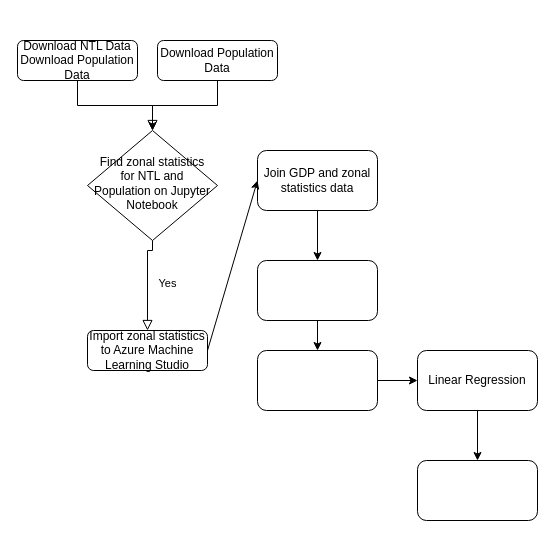
The diagram is 555 pixels wide and 538 high, and some of its shapes have lost their labels. The centre of each missing label's shape, as x and y in pixels:
"Evaluate Model" goes at point (477, 490).
"Select columns" goes at point (317, 290).
"Split Data" goes at point (317, 380).
